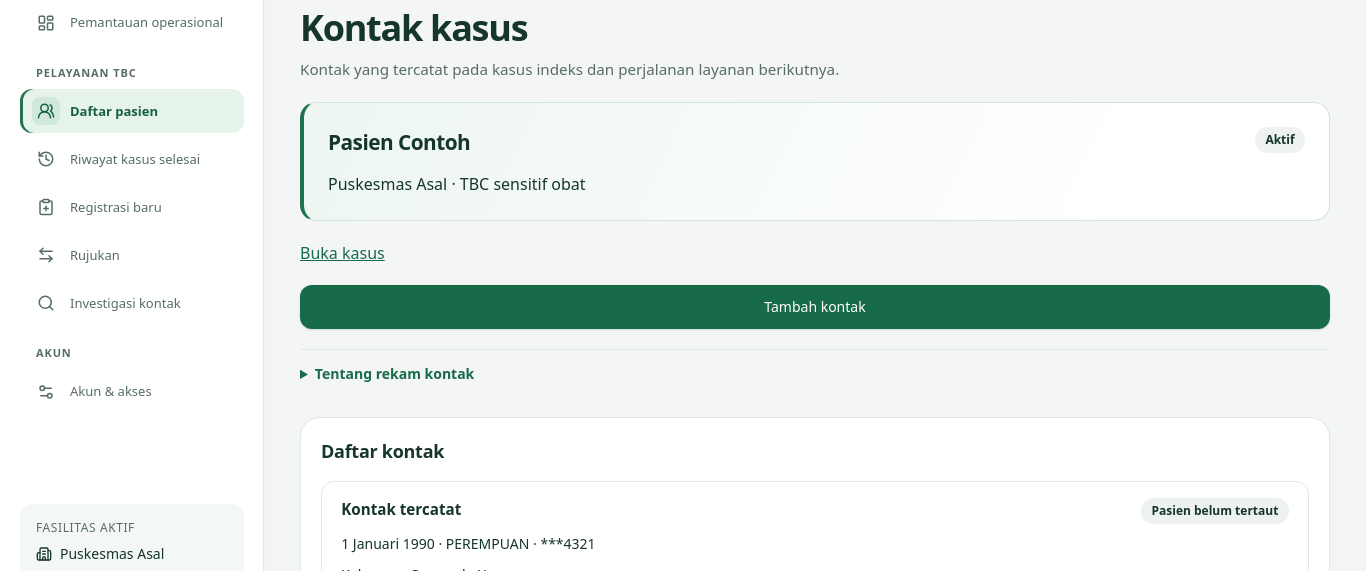
it: directory validation appears once beside the facility selector
Click the button "Tambah kontak" at point(815, 307), box [300,285,1330,329]
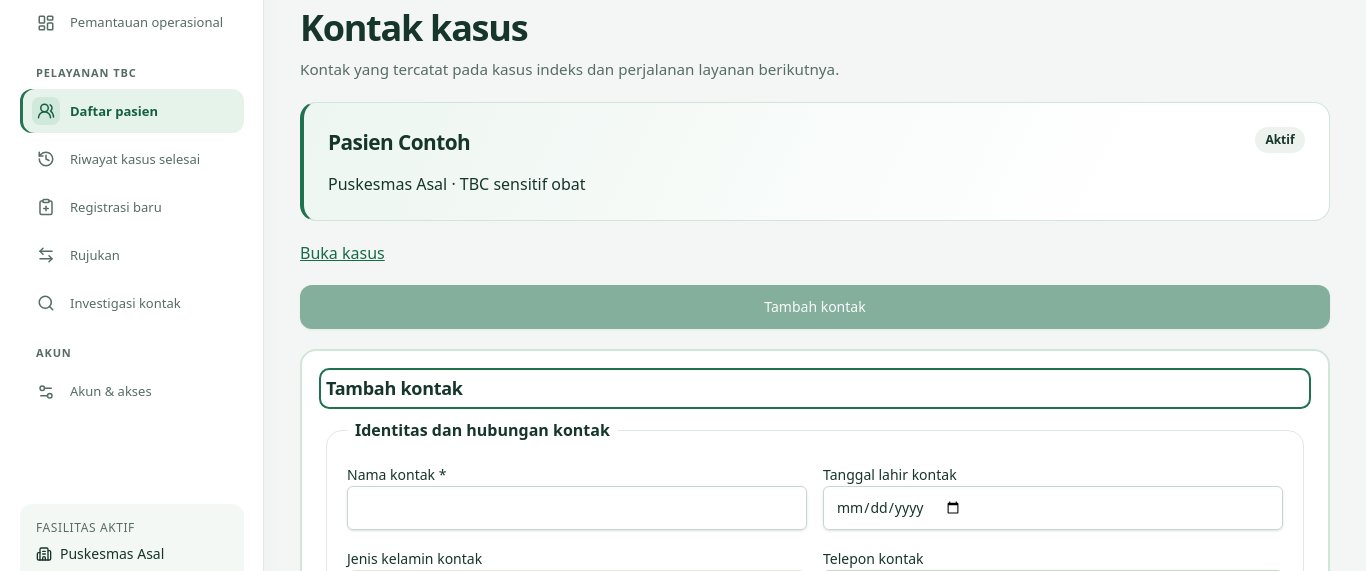
Type "Kontak baru" into the field labelled "Nama kontak *" at point(577, 508), box [347,486,807,530]
(page scrolled)
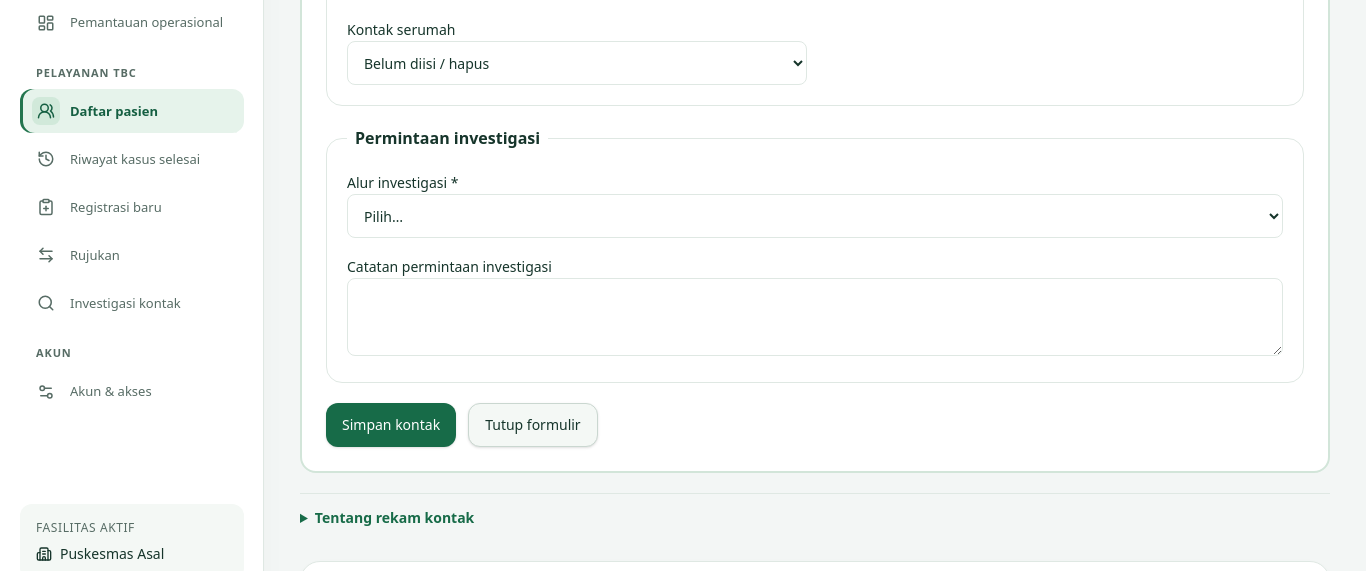
Select "Label OUTGOING_REFERRAL" in the dropdown labelled "Alur investigasi *" at point(815, 216), box [347,194,1283,238]
(page scrolled)
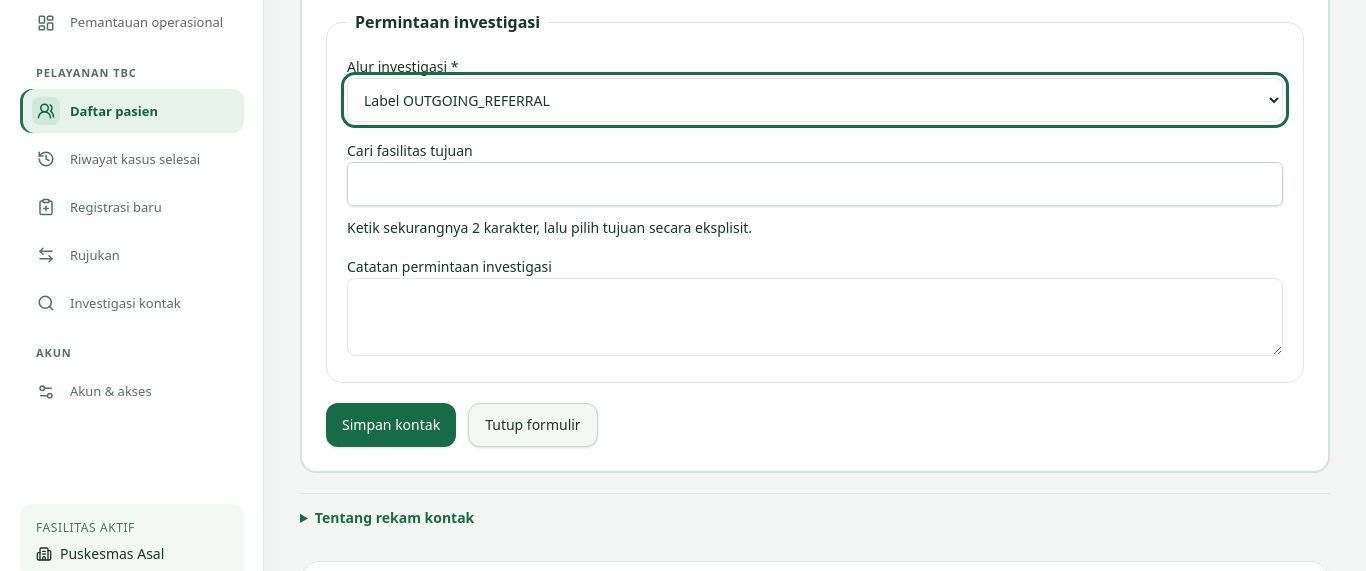
Click the button "Simpan kontak" at point(391, 425), box [326,403,456,447]
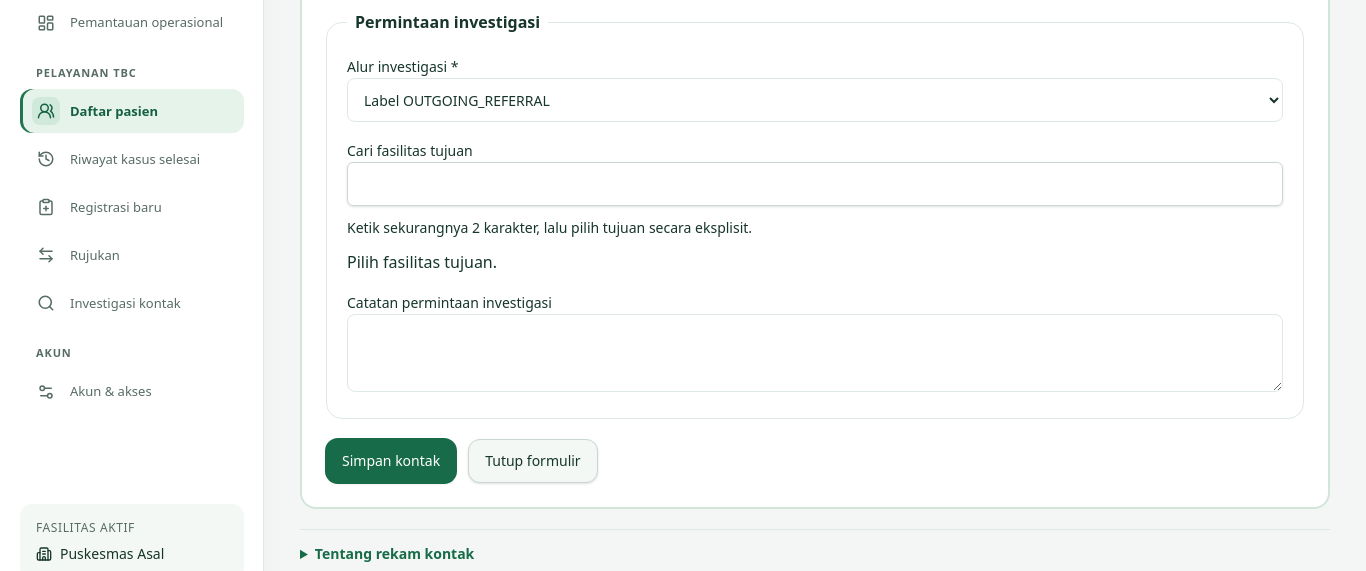
Expected: the text "Pilih fasilitas tujuan." is shown once, [347,251,497,273]
